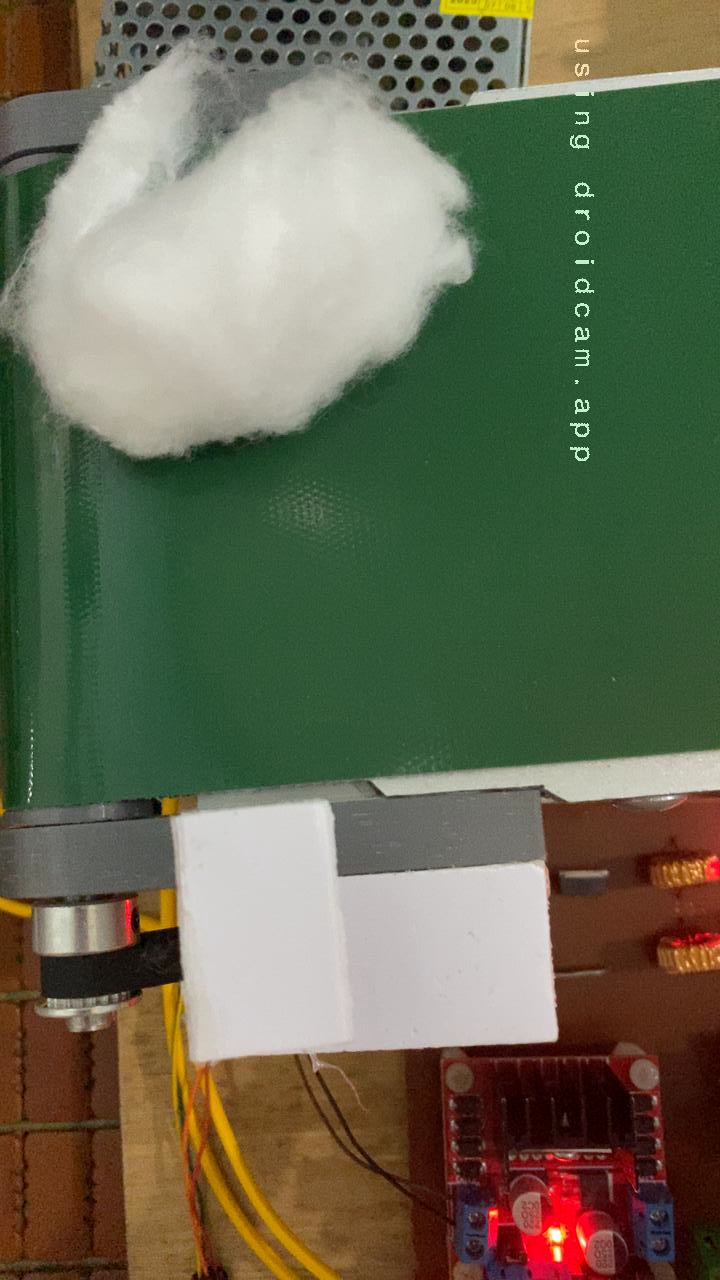cotton: (0, 105, 482, 464)
